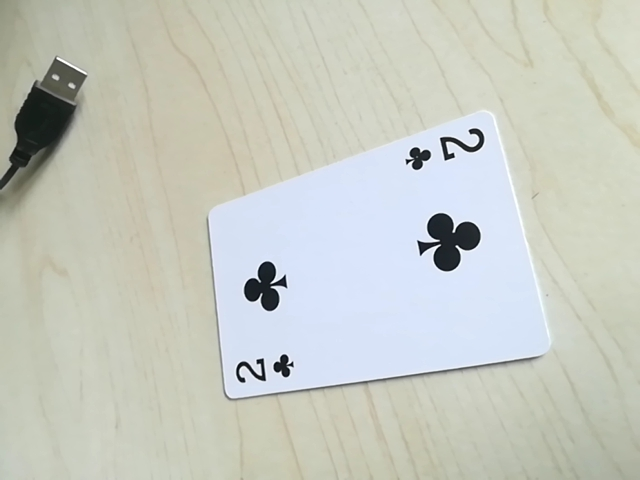mh 2: (399, 123, 495, 174), (227, 350, 300, 395)
